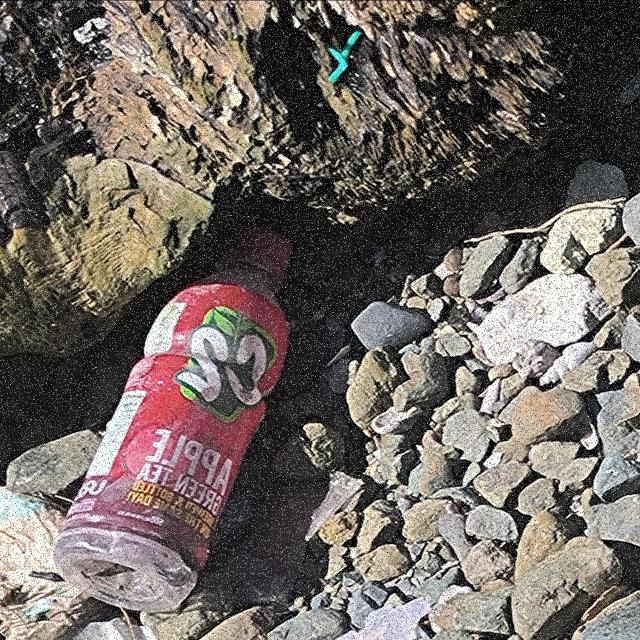plastic_waste: (52, 224, 296, 615)
